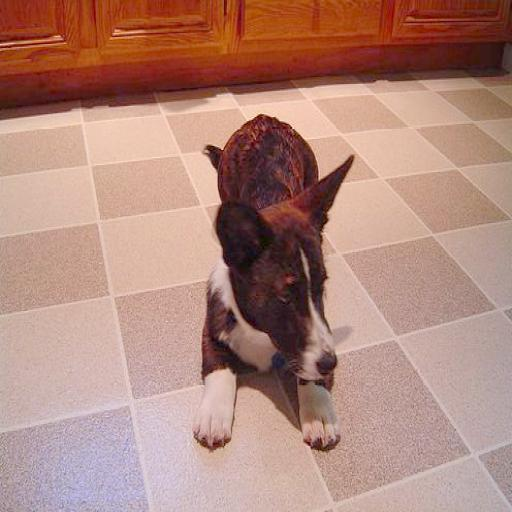dog_face: (228, 171, 366, 395)
